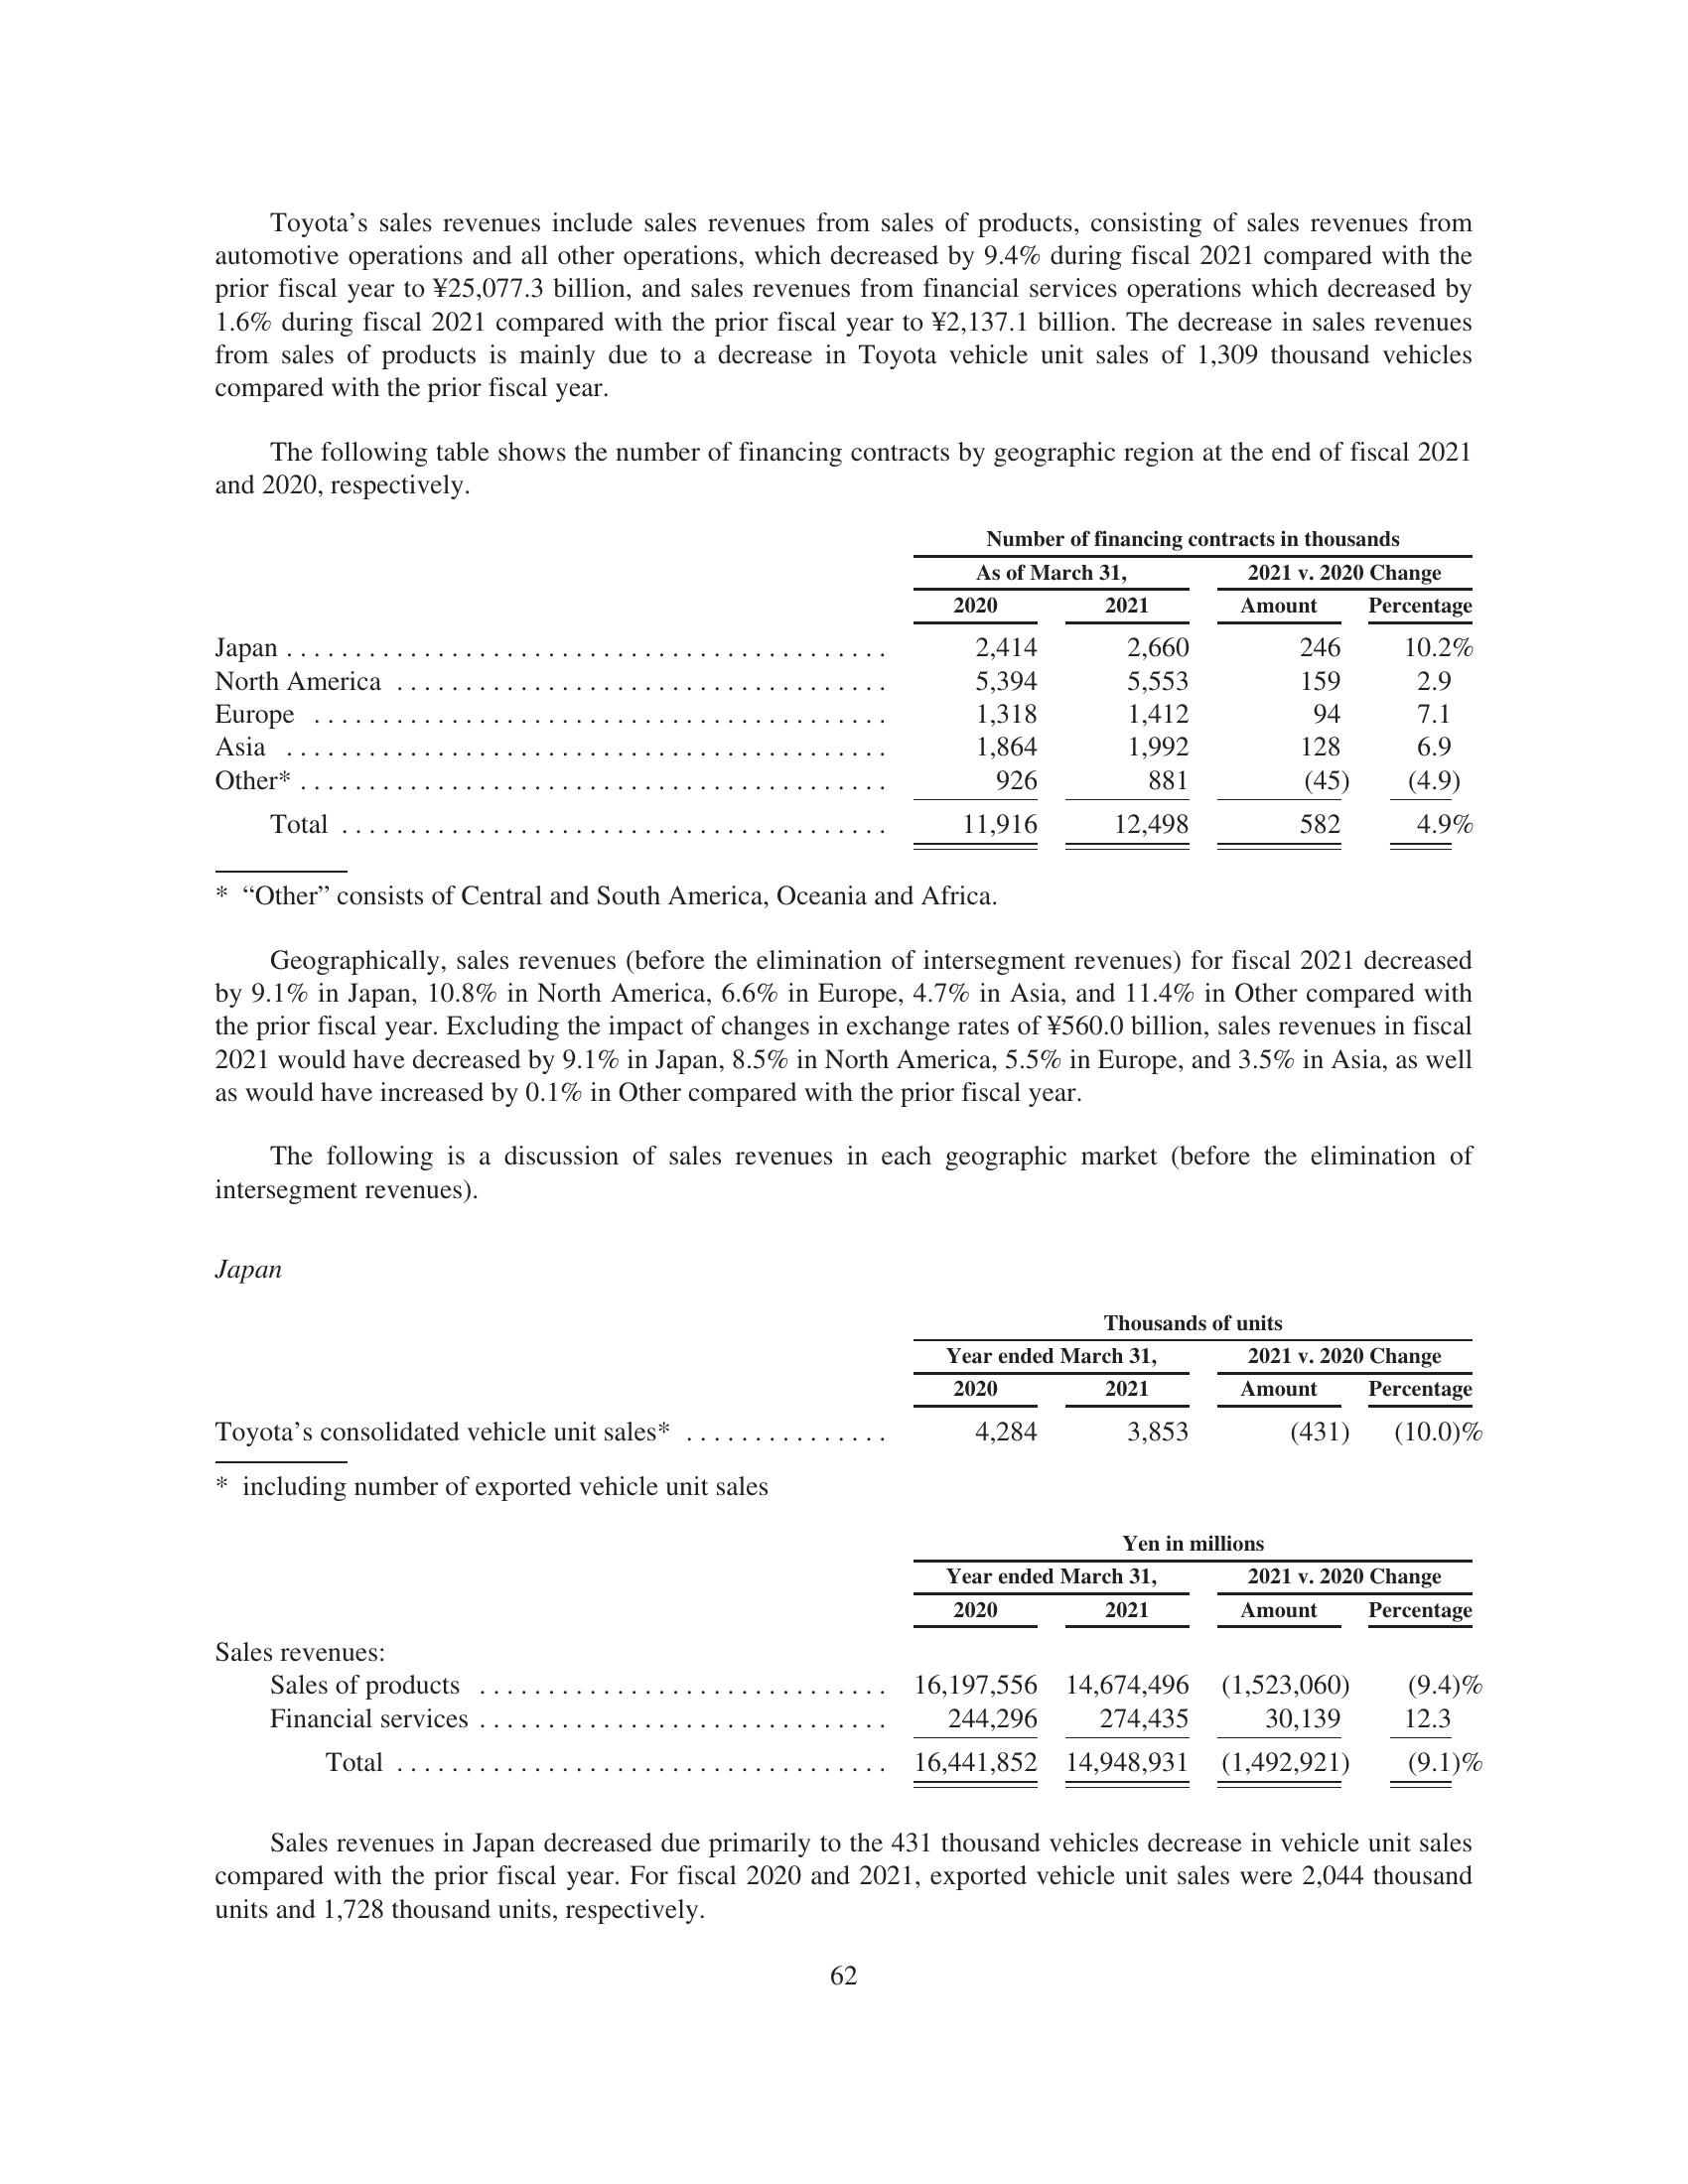Footer: (0, 1959, 1688, 2184)
Header: (0, 0, 1688, 183)
Table: (137, 519, 1521, 851), (106, 1525, 1482, 1792), (137, 1282, 1491, 1464)
